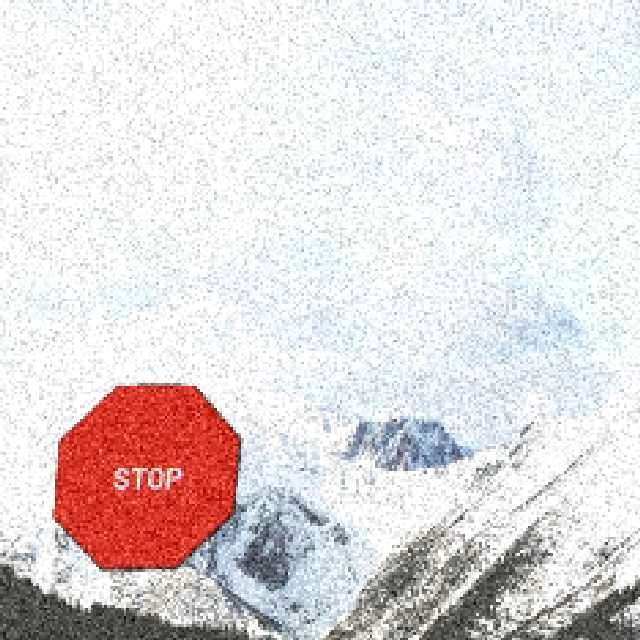STOP: (50, 382, 240, 569)
